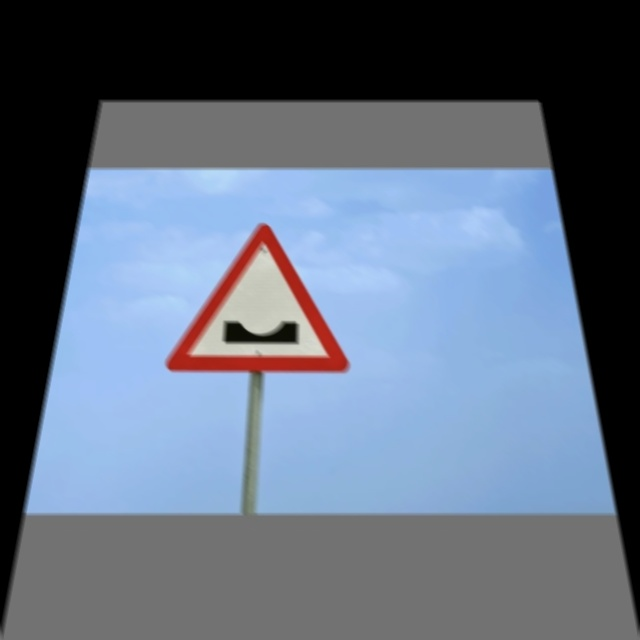Dangerous_Dip: (165, 220, 349, 373)
